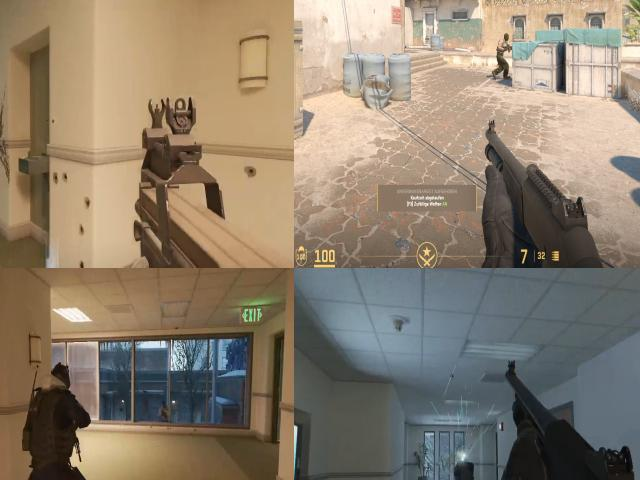CT: (22, 360, 82, 459), (450, 449, 476, 480)
CT-Head: (40, 362, 74, 400)
T: (493, 33, 512, 78), (157, 394, 174, 431)
T-Head: (159, 398, 169, 412), (504, 33, 509, 41)
